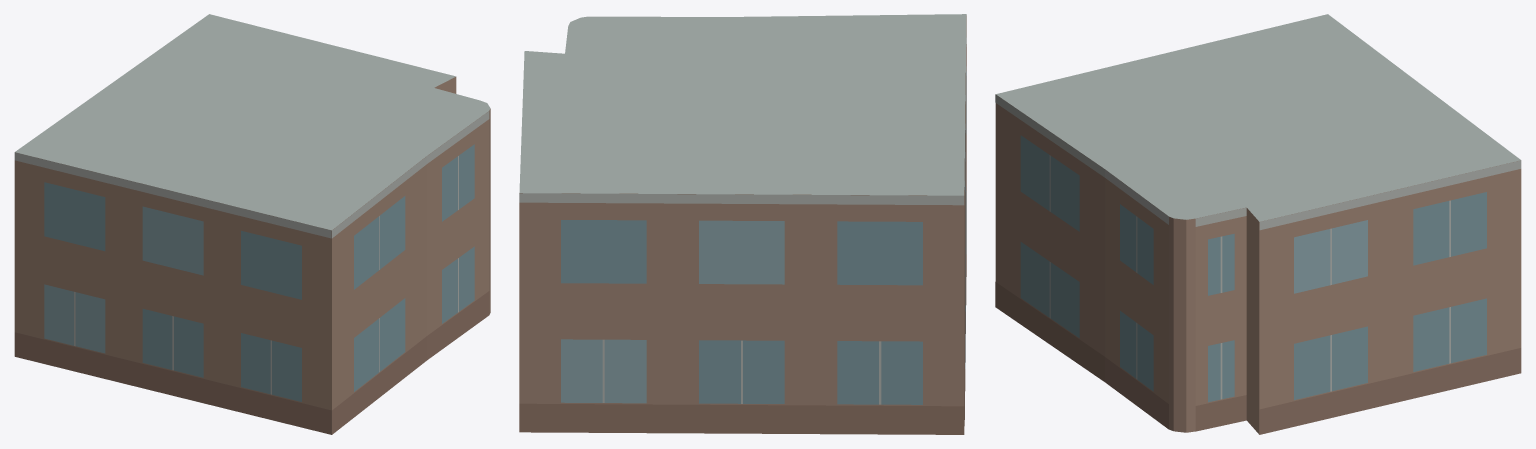
The model's file is survey-upis-32695320.glb.
3 views of the same model, side by side, from view 1: azimuth 30°, elevation 25°; view 2: azimuth 150°, elevation 25°; view 3: azimuth 270°, elevation 25° (orthographic). The views are drawn at different scales.
Parts seen in each view (by area): view 1: survey-upis-32695320.tmp; view 2: survey-upis-32695320.tmp; view 3: survey-upis-32695320.tmp.
Boxes of the visible parts, box(x1,y1,x2,y2) form: survey-upis-32695320.tmp: box(14, 14, 490, 434); survey-upis-32695320.tmp: box(519, 14, 966, 434); survey-upis-32695320.tmp: box(995, 14, 1521, 434).
Bounding box in the file's own units: 12.78 × 6.1 × 13.66.
